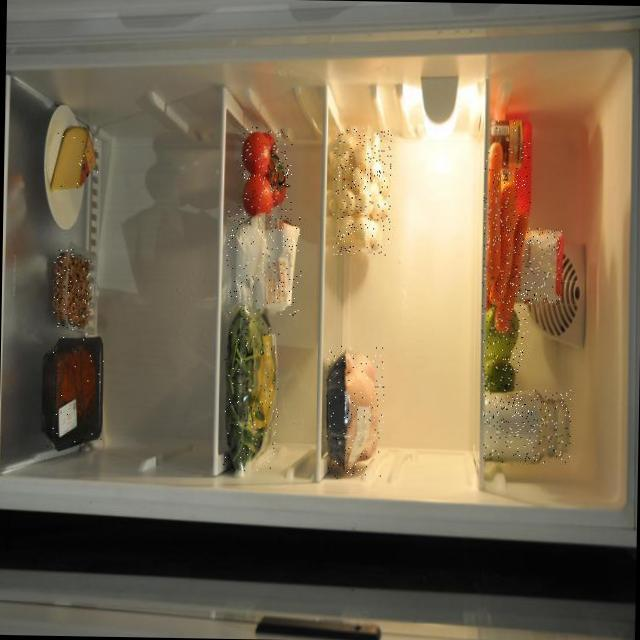Carne pollo: (323, 344, 383, 479)
Carne vacuno: (40, 332, 102, 452)
Gambas/Langostinos: (51, 248, 90, 330)
Manzana: (480, 300, 523, 405)
Queso: (49, 122, 98, 192)
Zanahoria: (480, 139, 530, 334)
